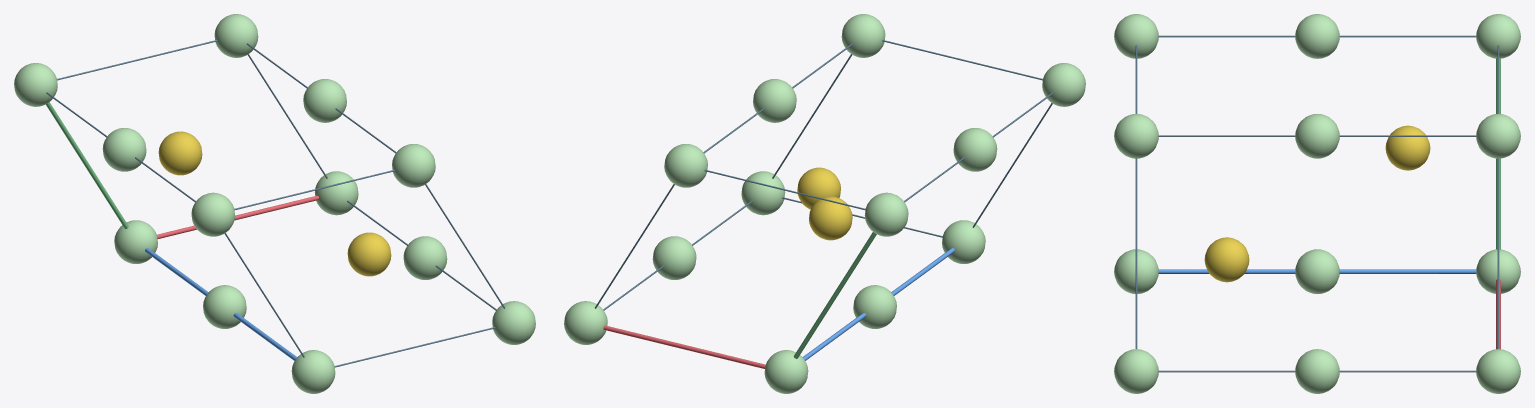
Rendered from chat-cobalt-sulfide.glb.
The picture shows the model from 3 angles, left to right: view 1: azimuth 30°, elevation 25°; view 2: azimuth 150°, elevation 25°; view 3: azimuth 270°, elevation 25°; orthographic projection. The views are drawn at different scales.
Visible parts, largest first — view 1: Co · Co · 1 (×12), Ô mạng và các trục a, b, c, S · S · 1 (×2); view 2: Co · Co · 1 (×12), Ô mạng và các trục a, b, c, S · S · 1 (×2); view 3: Co · Co · 1 (×12), Ô mạng và các trục a, b, c, S · S · 1 (×2).
Boxes of the visible parts, bbox=[...] form: Co · Co · 1 (×12): bbox=[14, 14, 535, 393]; Ô mạng và các trục a, b, c: bbox=[46, 40, 504, 367]; S · S · 1 (×2): bbox=[158, 131, 391, 276]; Co · Co · 1 (×12): bbox=[564, 14, 1085, 393]; Ô mạng và các trục a, b, c: bbox=[595, 40, 1053, 368]; S · S · 1 (×2): bbox=[797, 167, 852, 240]; Co · Co · 1 (×12): bbox=[1114, 14, 1520, 393]; Ô mạng và các trục a, b, c: bbox=[1135, 35, 1500, 372]; S · S · 1 (×2): bbox=[1204, 125, 1430, 282].
Size of the model in its own units: 5.69 by 3.56 by 5.8.
